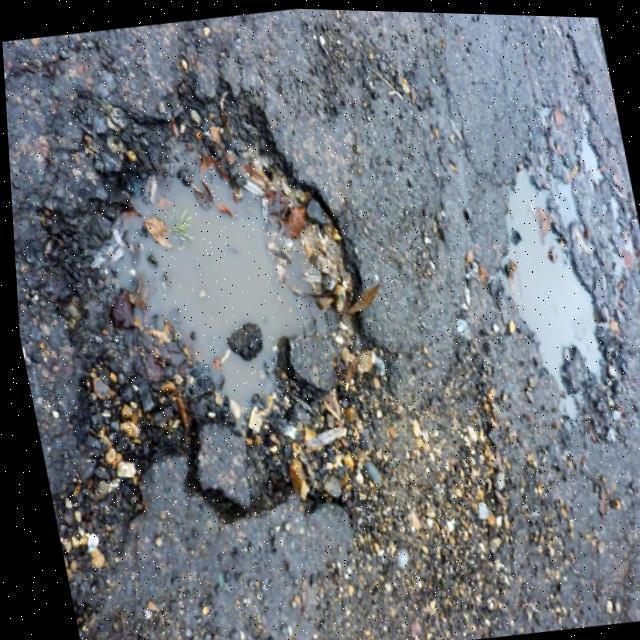Pothole: (48, 87, 361, 521), (498, 156, 613, 407)
